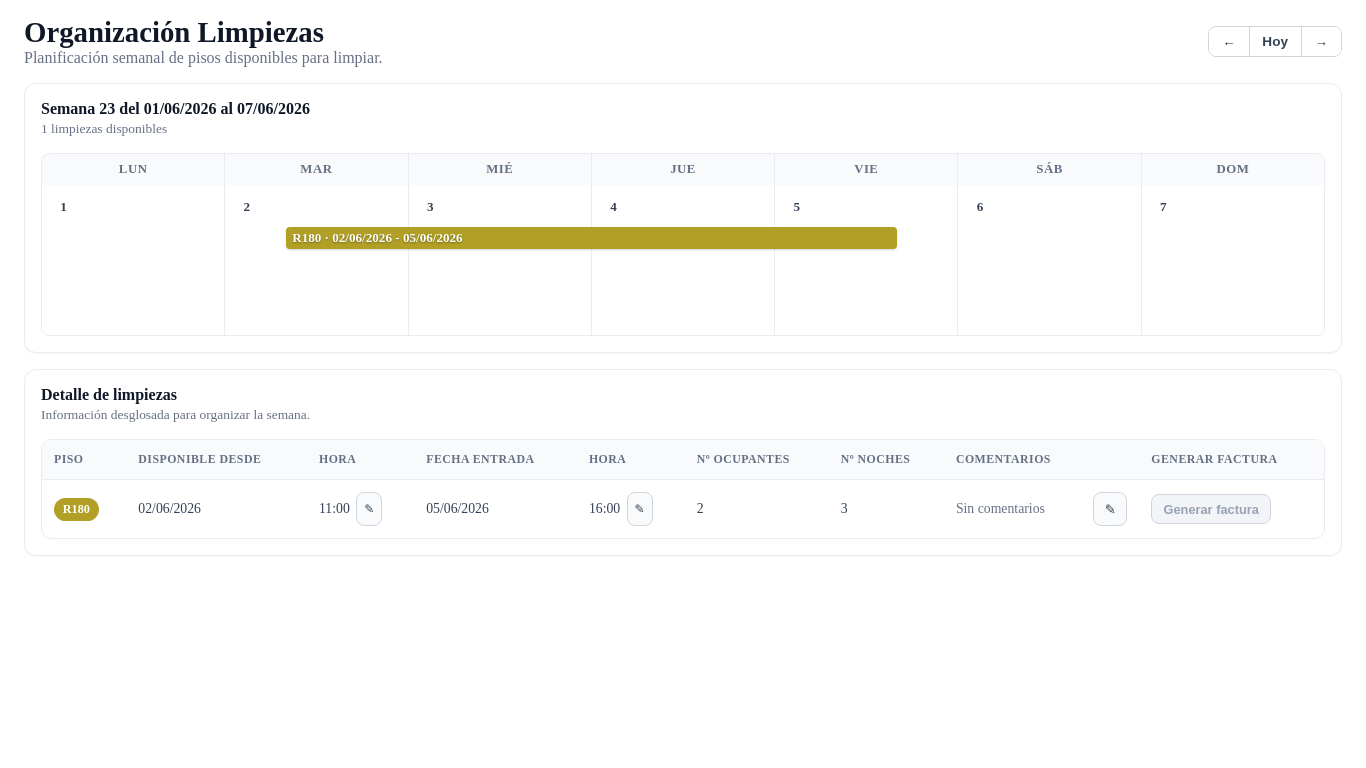
Test: CleaningOrganizationComponent › no envía PUT si la hora no ha cambiado
Click the button with class "time-edit-btn" next to "11:00".
click(369, 509)  # box [356,492,382,526]
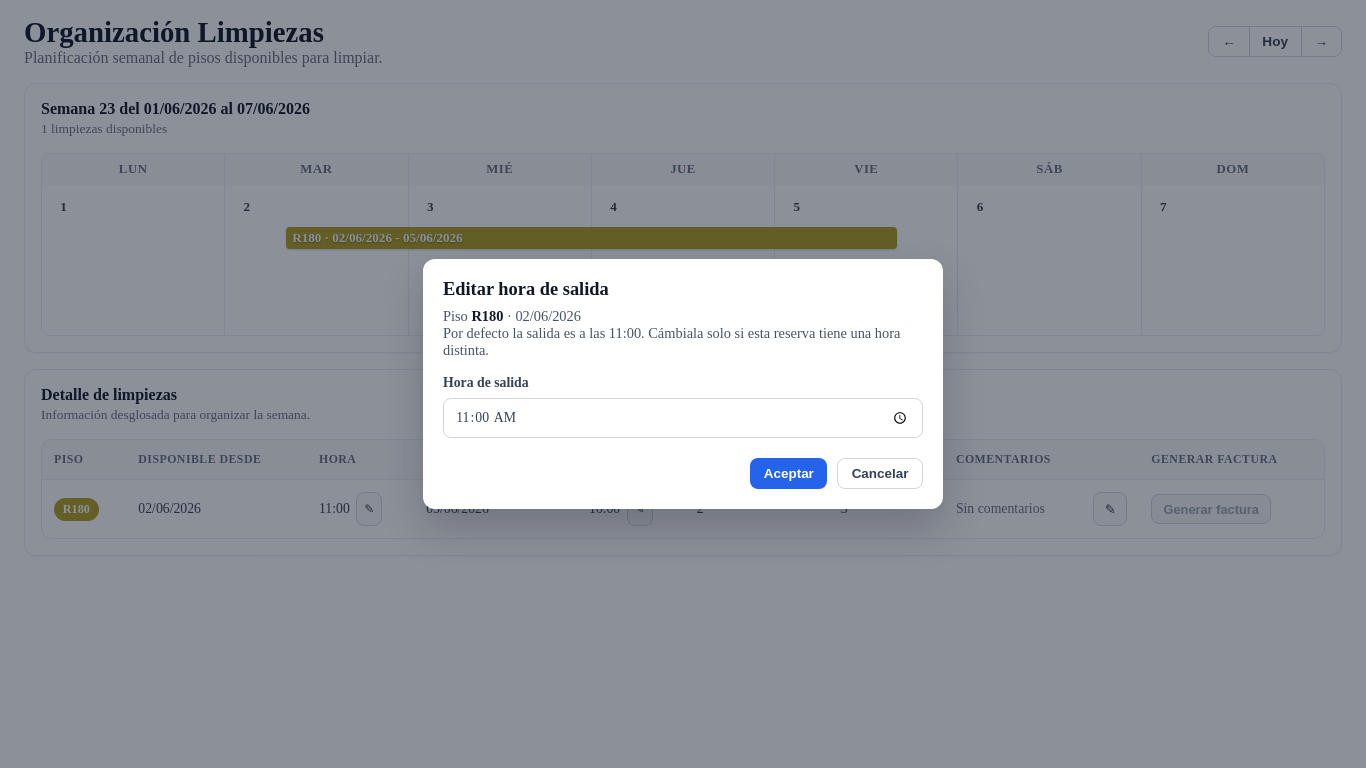
Click the button "Aceptar".
click(789, 474)  # box [750,458,827,489]
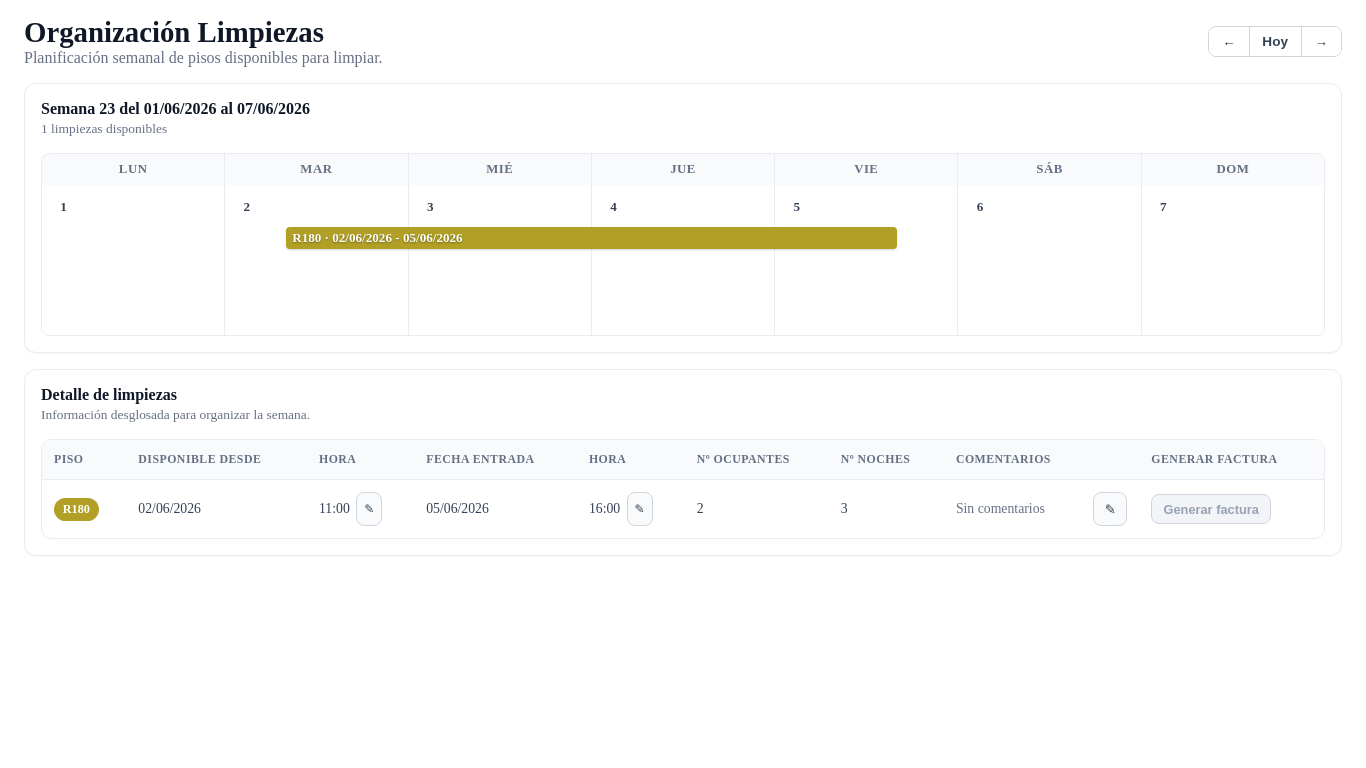
expect the dialog with class "comment-dialog" is gone: met
